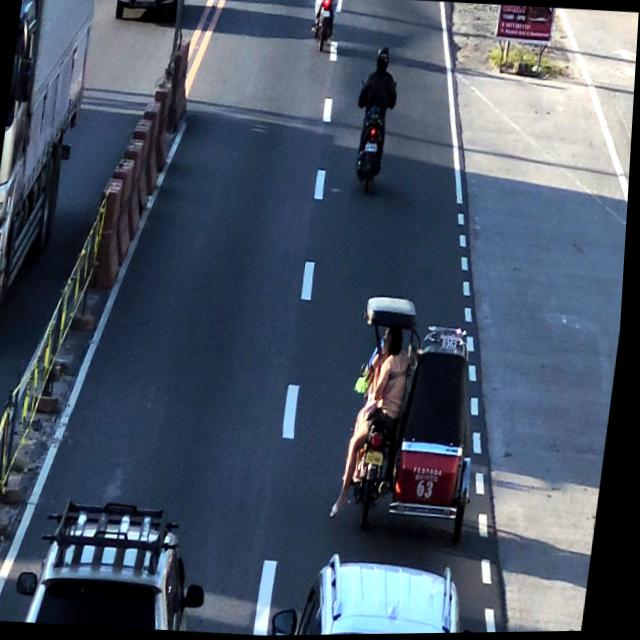Car: (28, 492, 206, 633), (289, 552, 485, 636)
License-Plate: (366, 448, 392, 468), (362, 142, 381, 157)
Motorcycle: (349, 44, 403, 193), (304, 0, 336, 59)
Tricycle: (335, 298, 503, 538)
